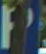Parking: (0, 0, 38, 50)
